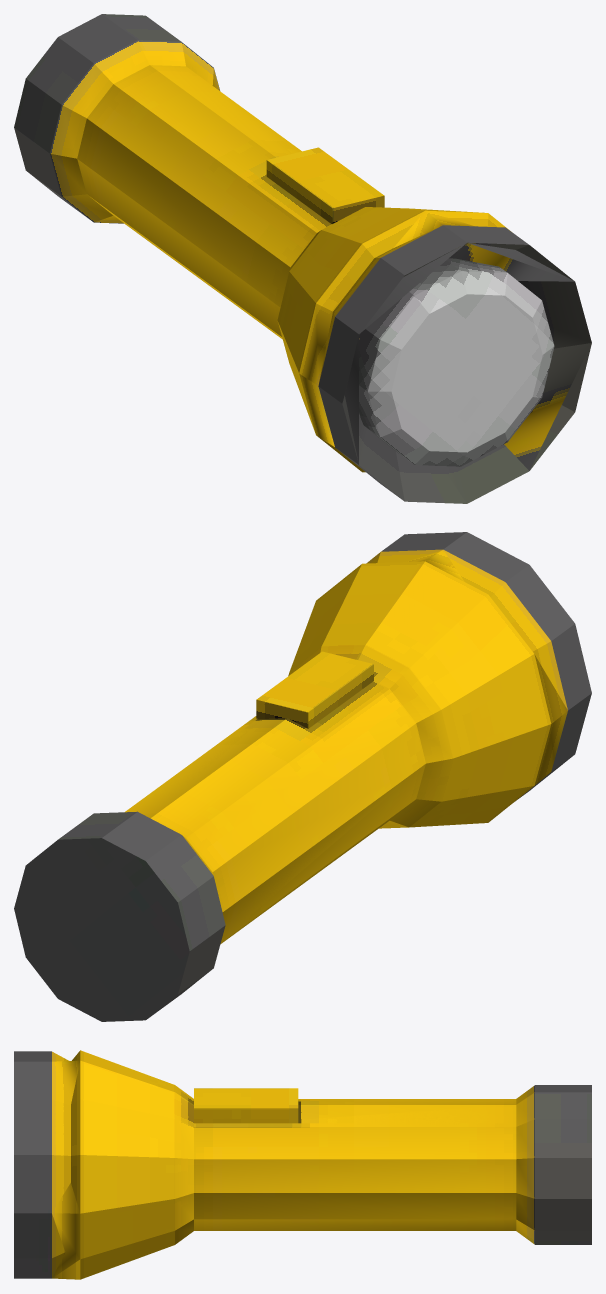
The model's file is item_flashlight.glb.
3 views of the same model, one above another, from view 1: azimuth 30°, elevation 25°; view 2: azimuth 150°, elevation 25°; view 3: azimuth 270°, elevation 25° (orthographic). The views are drawn at different scales.
Parts seen in each view (by area): view 1: Flashlight_submesh_0, Flashlight_submesh_1; view 2: Flashlight_submesh_0; view 3: Flashlight_submesh_0.
Boxes of the visible parts, box(x1,y1,x2,y2) form: Flashlight_submesh_0: box(14, 14, 591, 503); Flashlight_submesh_1: box(359, 258, 554, 466); Flashlight_submesh_0: box(14, 532, 591, 1021); Flashlight_submesh_0: box(14, 1050, 591, 1279).
Size of the model in its own units: 0.1215 by 0.1215 by 0.305.
Materials: 2 (2 with a texture image).
